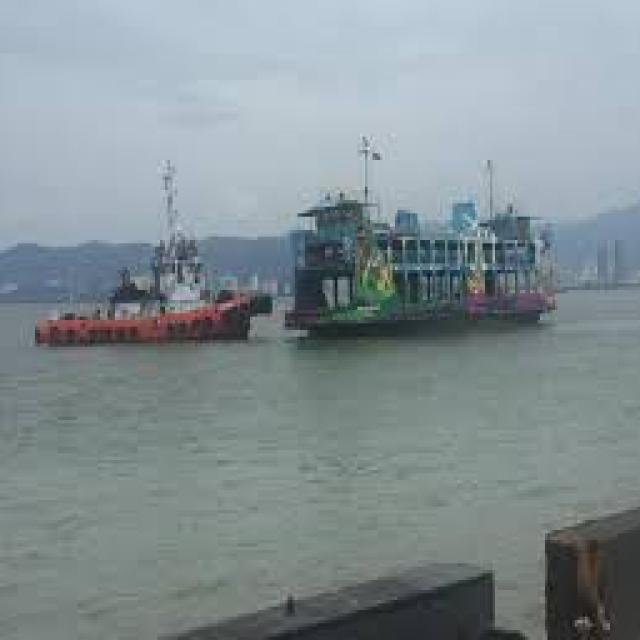fishing boat: (278, 193, 558, 329)
houseboat: (42, 246, 266, 346)
